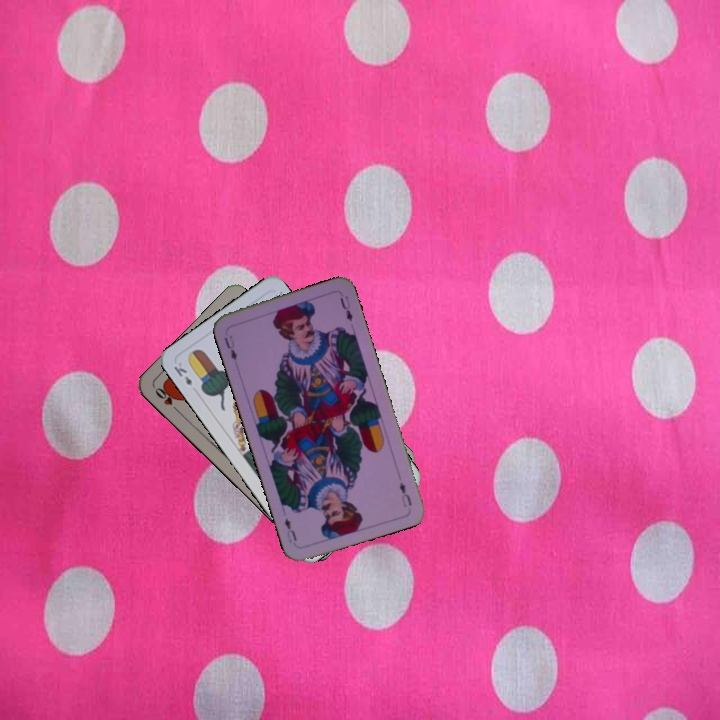EK: (170, 358, 195, 388)
EU: (395, 478, 415, 509), (220, 333, 240, 363)
HO: (151, 383, 183, 415)
